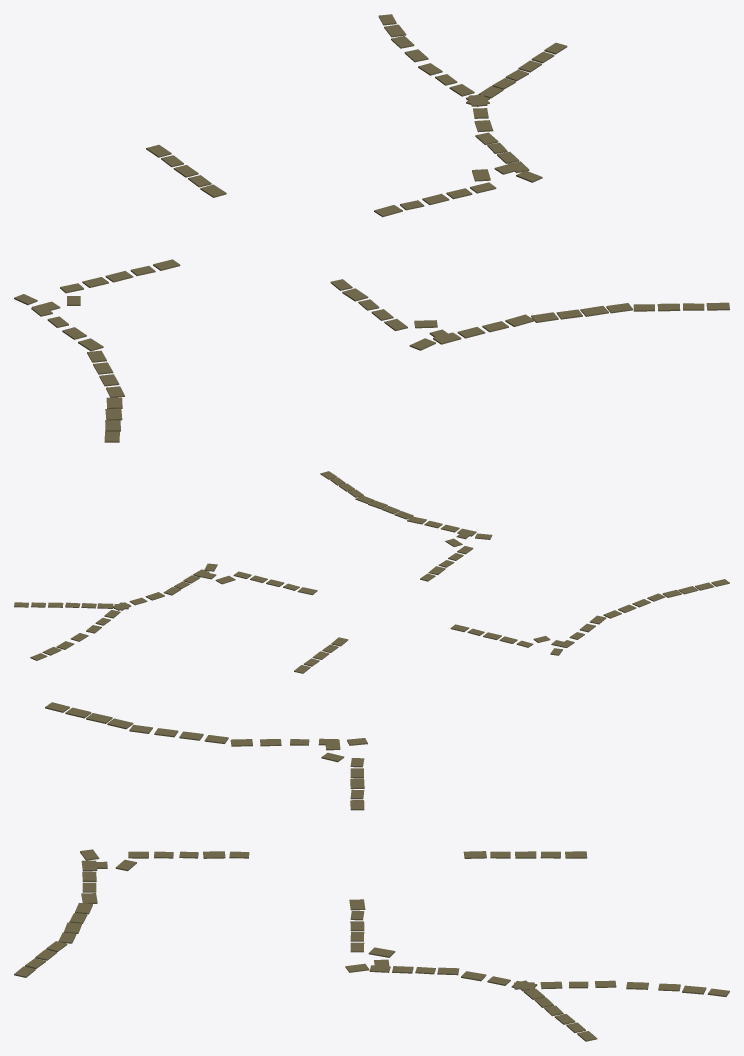
File: village_next_core_paths.glb
3 views of the same model, one above another, from view 1: azimuth 30°, elevation 25°; view 2: azimuth 150°, elevation 25°; view 3: azimuth 270°, elevation 25° (orthographic). The views are drawn at different scales.
Parts seen in each view (by area): view 1: npath_2, npath_0, npath_3, npath_1; view 2: npath_2, npath_0, npath_1, npath_3; view 3: npath_2, npath_0, npath_1, npath_3.
Boxes of the visible parts, x1=… form: npath_2: x1=14, y1=24, x2=729, y2=442; npath_0: x1=47, y1=49, x2=680, y2=420; npath_3: x1=31, y1=14, x2=654, y2=408; npath_1: x1=32, y1=36, x2=704, y2=431; npath_2: x1=31, y1=471, x2=729, y2=666; npath_0: x1=65, y1=483, x2=698, y2=652; npath_1: x1=48, y1=477, x2=714, y2=659; npath_3: x1=14, y1=489, x2=681, y2=673; npath_2: x1=14, y1=702, x2=706, y2=1032; npath_0: x1=35, y1=713, x2=648, y2=1016; npath_1: x1=25, y1=707, x2=680, y2=1024; npath_3: x1=46, y1=718, x2=729, y2=1041.
Size of the model in its own units: 32.58 by 0.059 by 29.13.
4 materials, 4 textured.
